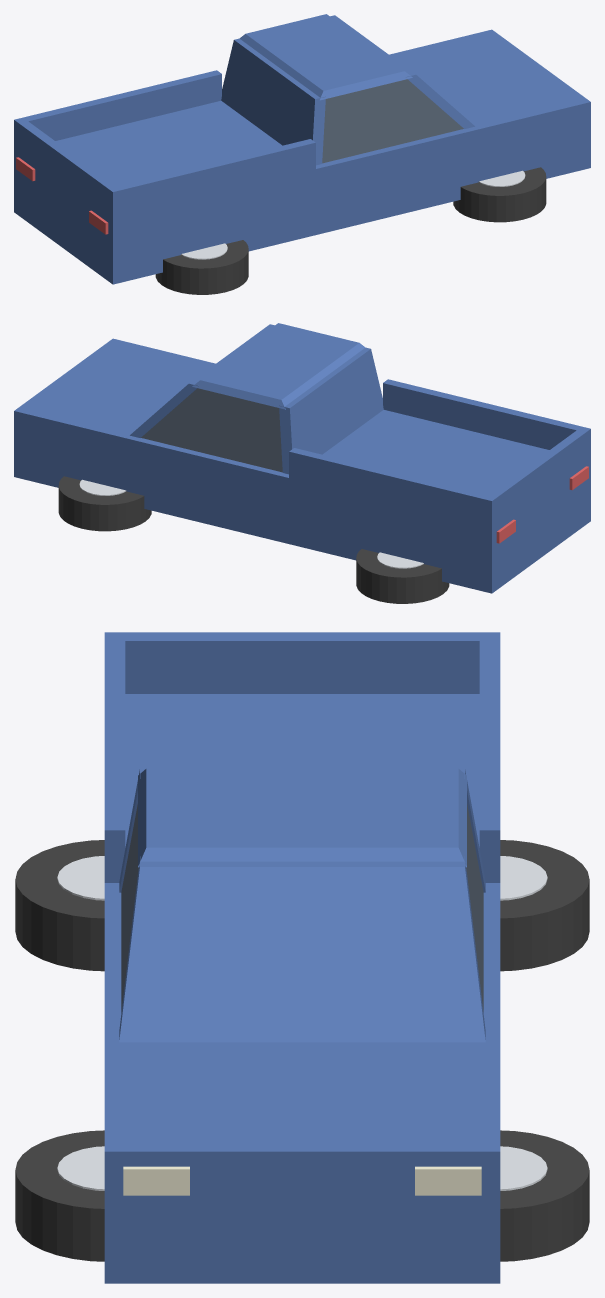
Rendered from ford_ranger.glb.
3 renders of one model, top to bottom at view 1: azimuth 30°, elevation 25°; view 2: azimuth 150°, elevation 25°; view 3: azimuth 270°, elevation 25°, orthographic. The views are drawn at different scales.
Visible parts, largest first — view 1: geometry_0, geometry_2, geometry_1, geometry_4, geometry_5, geometry_6, geometry_7, geometry_8, geometry_12, geometry_3, geometry_13, geometry_9; view 2: geometry_0, geometry_2, geometry_1, geometry_4, geometry_6, geometry_5, geometry_7, geometry_10, geometry_14, geometry_3, geometry_15, geometry_11; view 3: geometry_0, geometry_3, geometry_2, geometry_7, geometry_8, geometry_10, geometry_12, geometry_14, geometry_5, geometry_6, geometry_1, geometry_16 (+6 smaller).
Part boxes in pixels (left/top/right/bottom): geometry_0: left=14, top=29, right=590, bottom=284; geometry_2: left=239, top=14, right=412, bottom=100; geometry_1: left=322, top=79, right=463, bottom=163; geometry_4: left=221, top=38, right=325, bottom=165; geometry_5: left=107, top=139, right=315, bottom=218; geometry_6: left=14, top=70, right=221, bottom=149; geometry_7: left=14, top=117, right=121, bottom=218; geometry_8: left=453, top=167, right=546, bottom=222; geometry_12: left=155, top=240, right=248, bottom=294; geometry_3: left=330, top=15, right=474, bottom=128; geometry_13: left=181, top=243, right=227, bottom=259; geometry_9: left=478, top=170, right=525, bottom=186; geometry_0: left=14, top=338, right=590, bottom=593; geometry_2: left=192, top=323, right=365, bottom=409; geometry_1: left=141, top=388, right=282, bottom=472; geometry_4: left=279, top=347, right=383, bottom=474; geometry_6: left=289, top=448, right=497, bottom=527; geometry_5: left=383, top=379, right=590, bottom=458; geometry_7: left=483, top=426, right=590, bottom=526; geometry_10: left=58, top=476, right=151, bottom=531; geometry_14: left=356, top=549, right=449, bottom=603; geometry_3: left=130, top=324, right=274, bottom=437; geometry_15: left=377, top=552, right=423, bottom=568; geometry_11: left=79, top=479, right=126, bottom=495; geometry_0: left=104, top=694, right=500, bottom=1283; geometry_3: left=119, top=856, right=485, bottom=1042; geometry_2: left=138, top=768, right=466, bottom=867; geometry_7: left=105, top=632, right=500, bottom=693; geometry_8: left=15, top=1130, right=104, bottom=1261; geometry_10: left=500, top=1130, right=589, bottom=1261; geometry_12: left=15, top=840, right=104, bottom=971; geometry_14: left=500, top=840, right=589, bottom=971; geometry_5: left=104, top=632, right=125, bottom=882; geometry_6: left=479, top=632, right=500, bottom=882; geometry_1: left=121, top=804, right=483, bottom=1011; geometry_16: left=123, top=1166, right=189, bottom=1195.
Bounding box in the file's own units: 5.36 × 1.55 × 2.76.
